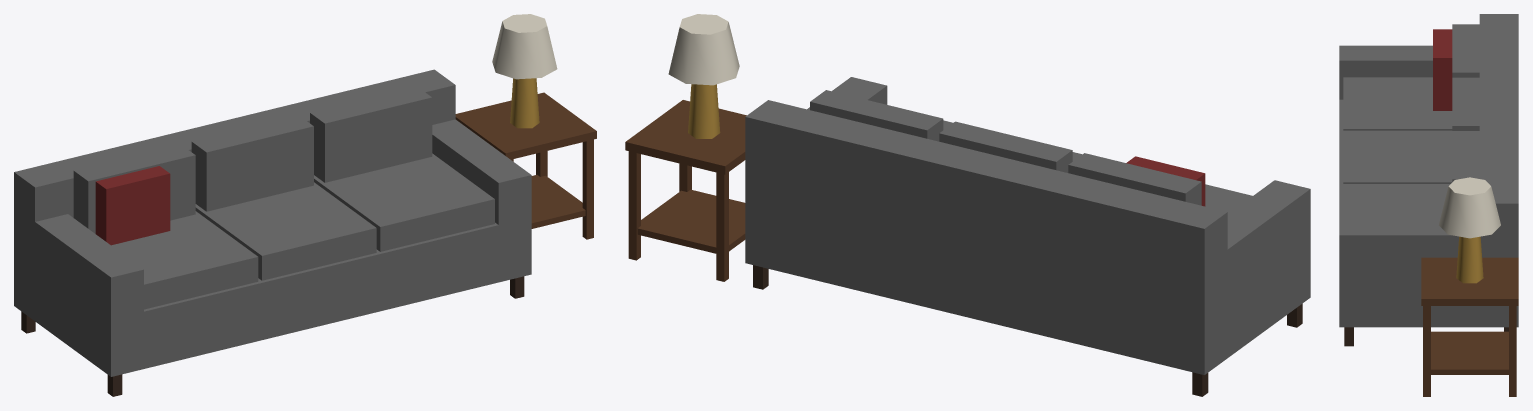
The model's file is sofa.glb.
The picture shows the model from 3 angles, left to right: view 1: azimuth 30°, elevation 25°; view 2: azimuth 150°, elevation 25°; view 3: azimuth 270°, elevation 25°; orthographic projection. The views are drawn at different scales.
Parts seen in each view (by area): view 1: sofa; view 2: sofa; view 3: sofa.
Boxes of the visible parts, x1,y1,x2,y2 form: sofa: (14, 14, 596, 396); sofa: (625, 14, 1310, 396); sofa: (1339, 14, 1518, 396).
Size of the model in its own units: 2.9 by 1.08 by 0.92.
1 material, 1 textured.
